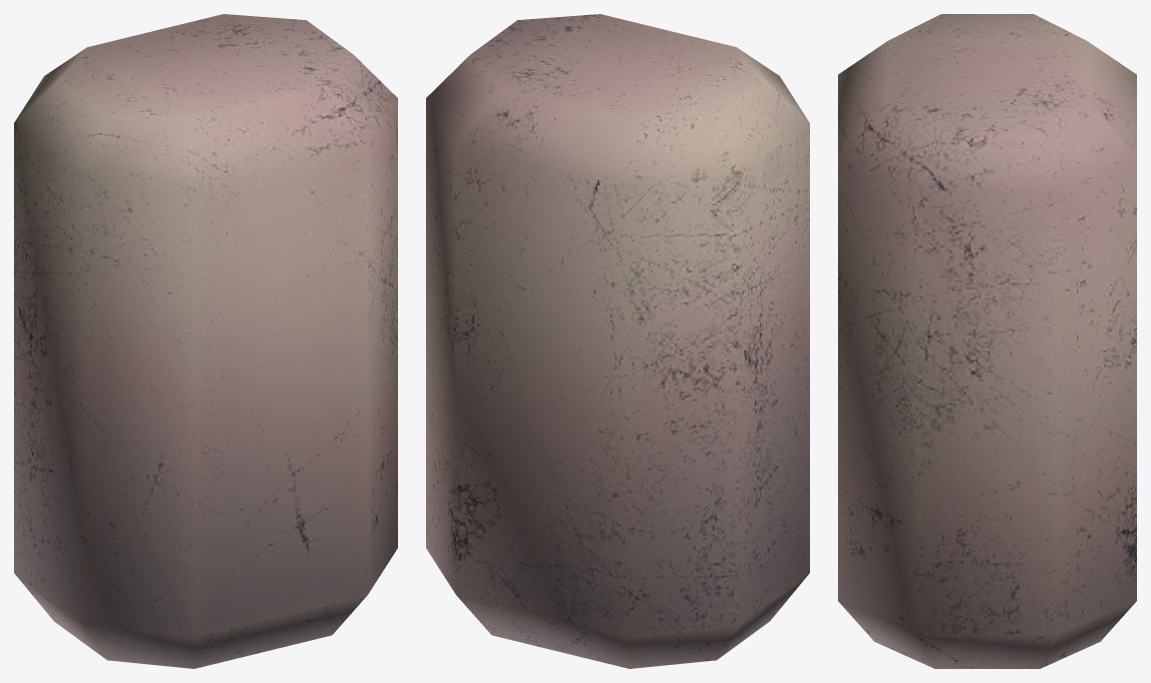
File: SM_RefinedMineral_6.fbx
The picture shows the model from 3 angles, left to right: view 1: azimuth 30°, elevation 25°; view 2: azimuth 150°, elevation 25°; view 3: azimuth 270°, elevation 25°; orthographic projection.
Parts seen in each view (by area): view 1: SM_RefinedMineral_6; view 2: SM_RefinedMineral_6; view 3: SM_RefinedMineral_6.
Boxes of the visible parts, x1,y1,x2,y2 form: SM_RefinedMineral_6: [14, 14, 397, 668]; SM_RefinedMineral_6: [426, 14, 809, 668]; SM_RefinedMineral_6: [838, 14, 1136, 668].
Bounding box in the file's own units: 0.2252 × 0.1886 × 0.3726.
